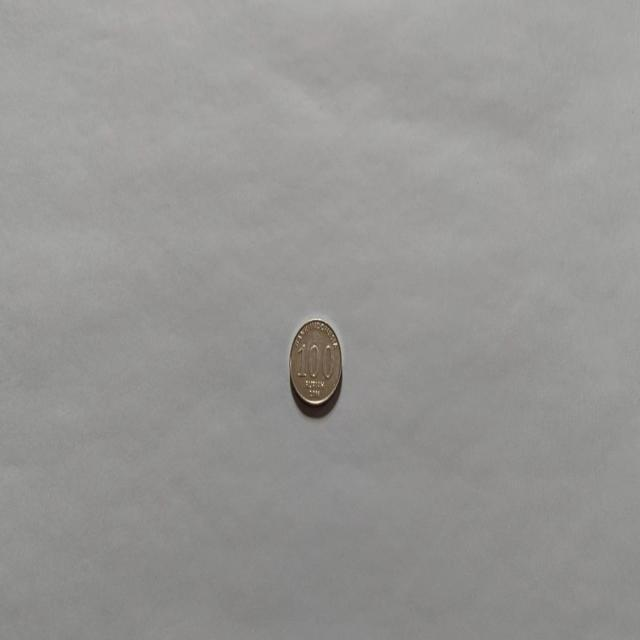seratus rupiah: (288, 317, 342, 408)
